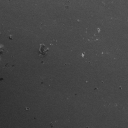corrosion: (37, 44, 50, 58), (80, 52, 86, 58), (7, 35, 13, 41)
